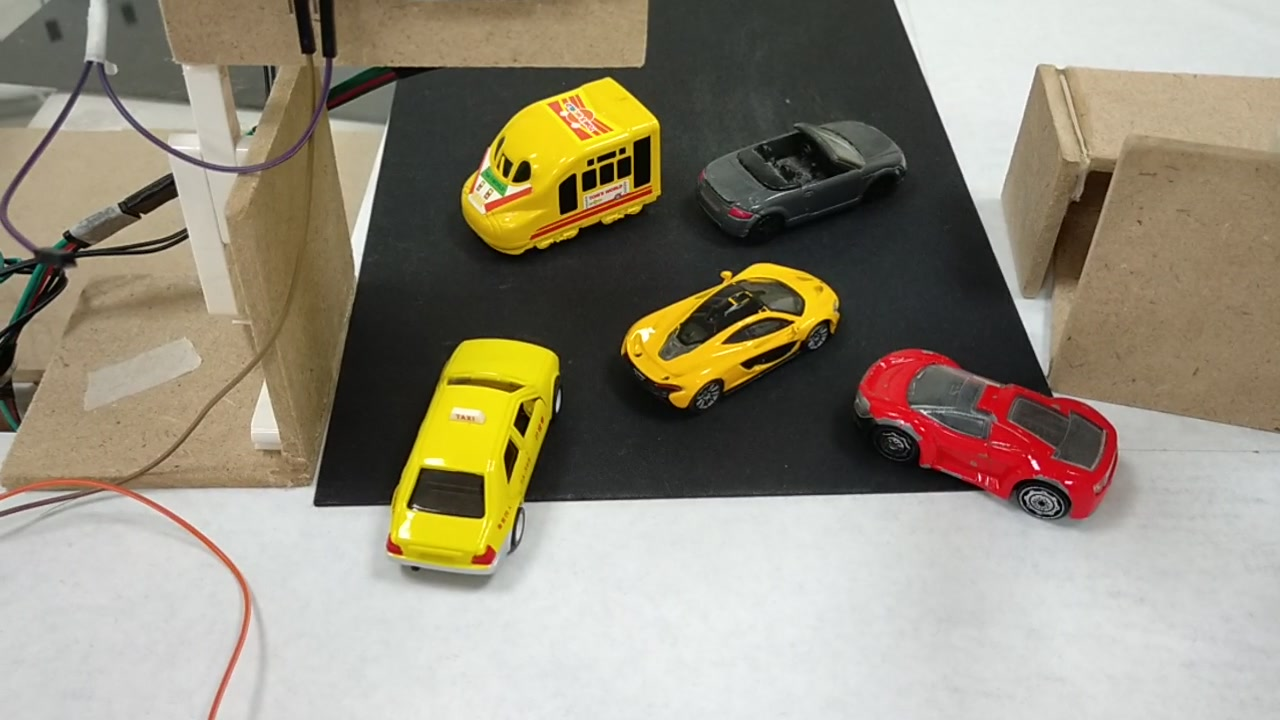car: (855, 343, 1122, 525), (380, 337, 576, 570), (624, 264, 830, 404), (685, 114, 903, 246)
